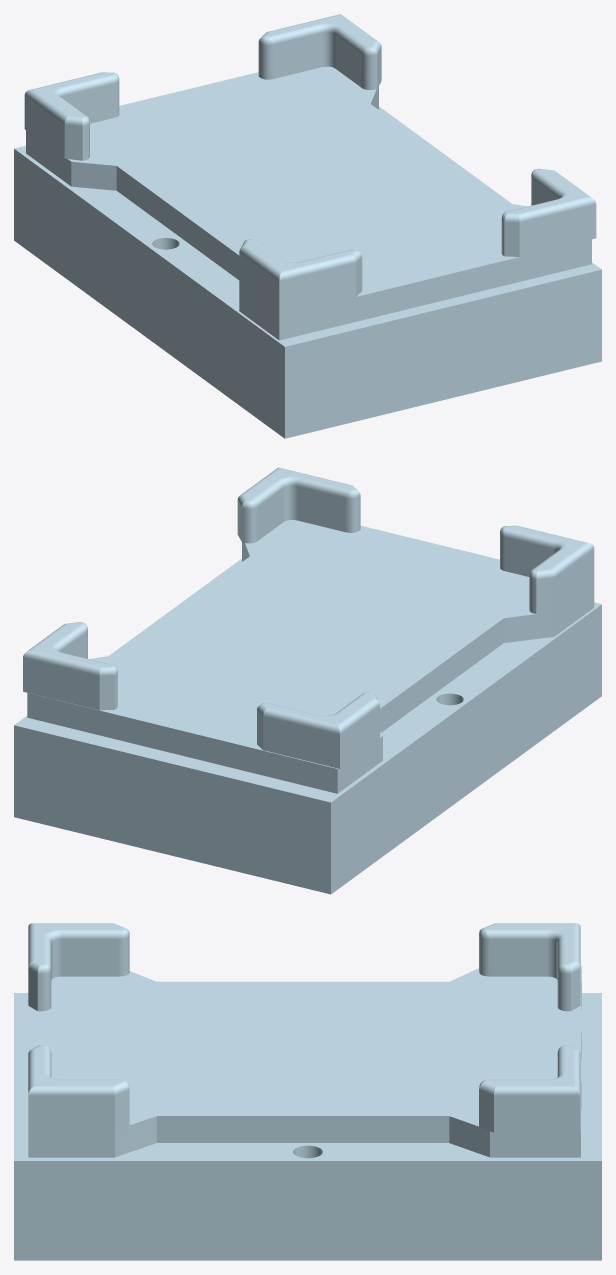
Rendered from TeleshakeSimple.gltf.
3 renders of one model, top to bottom at view 1: azimuth 30°, elevation 25°; view 2: azimuth 150°, elevation 25°; view 3: azimuth 270°, elevation 25°, orthographic. The views are drawn at different scales.
Parts seen in each view (by area): view 1: Part 1 (×2); view 2: Part 1 (×2); view 3: Part 1 (×2).
Boxes of the visible parts, <box> form: Part 1 (×2): <box>14,14,601,438</box>; Part 1 (×2): <box>14,467,601,894</box>; Part 1 (×2): <box>14,923,601,1260</box>.
Size of the model in its own units: 0.1003 by 0.0478 by 0.148.
